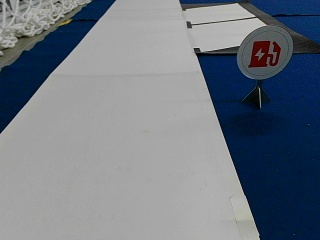battery: (236, 24, 293, 80)
